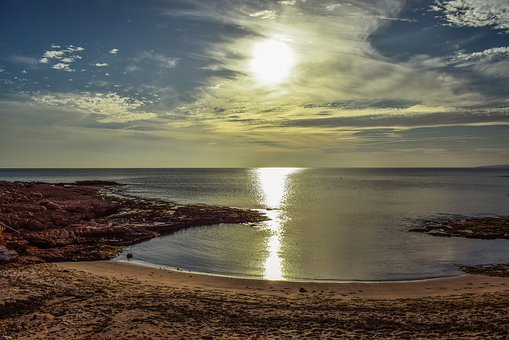sea: (8, 170, 509, 318)
sky: (5, 6, 505, 164)
